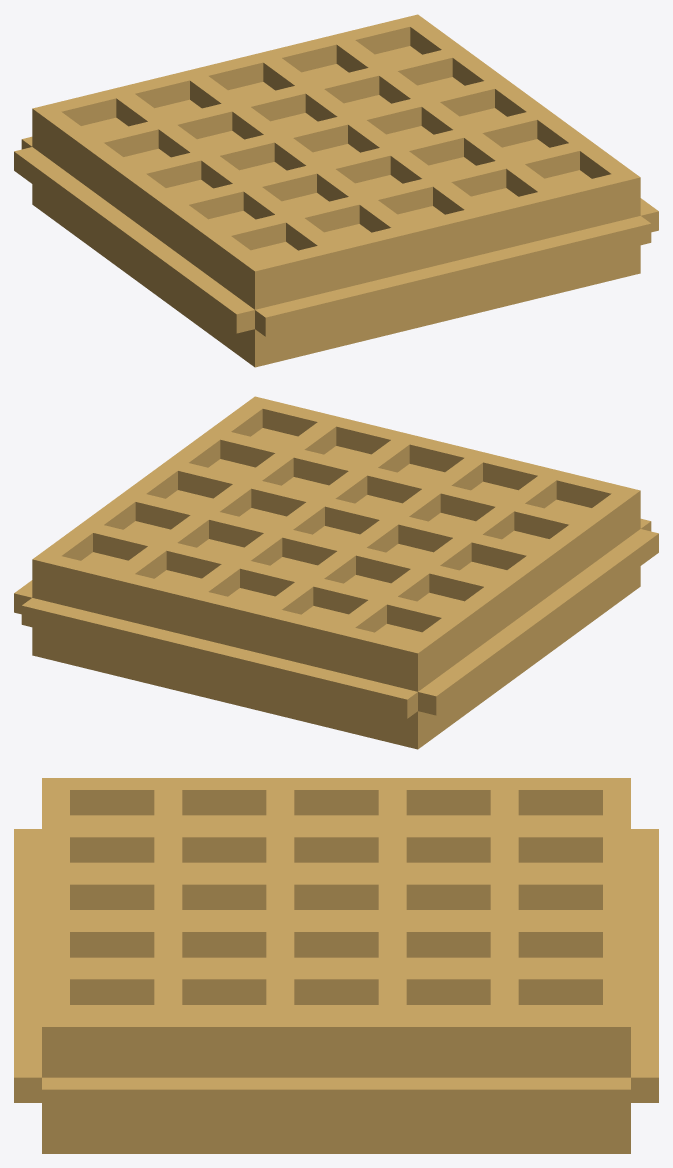
Rendered from waffle.obj.
The picture shows the model from 3 angles, top to bottom: view 1: azimuth 30°, elevation 25°; view 2: azimuth 150°, elevation 25°; view 3: azimuth 270°, elevation 25°; orthographic projection. The views are drawn at different scales.
Bounding box in the file's own units: 2.3 × 0.5 × 2.3.
Materials: 1 (1 with a texture image).
